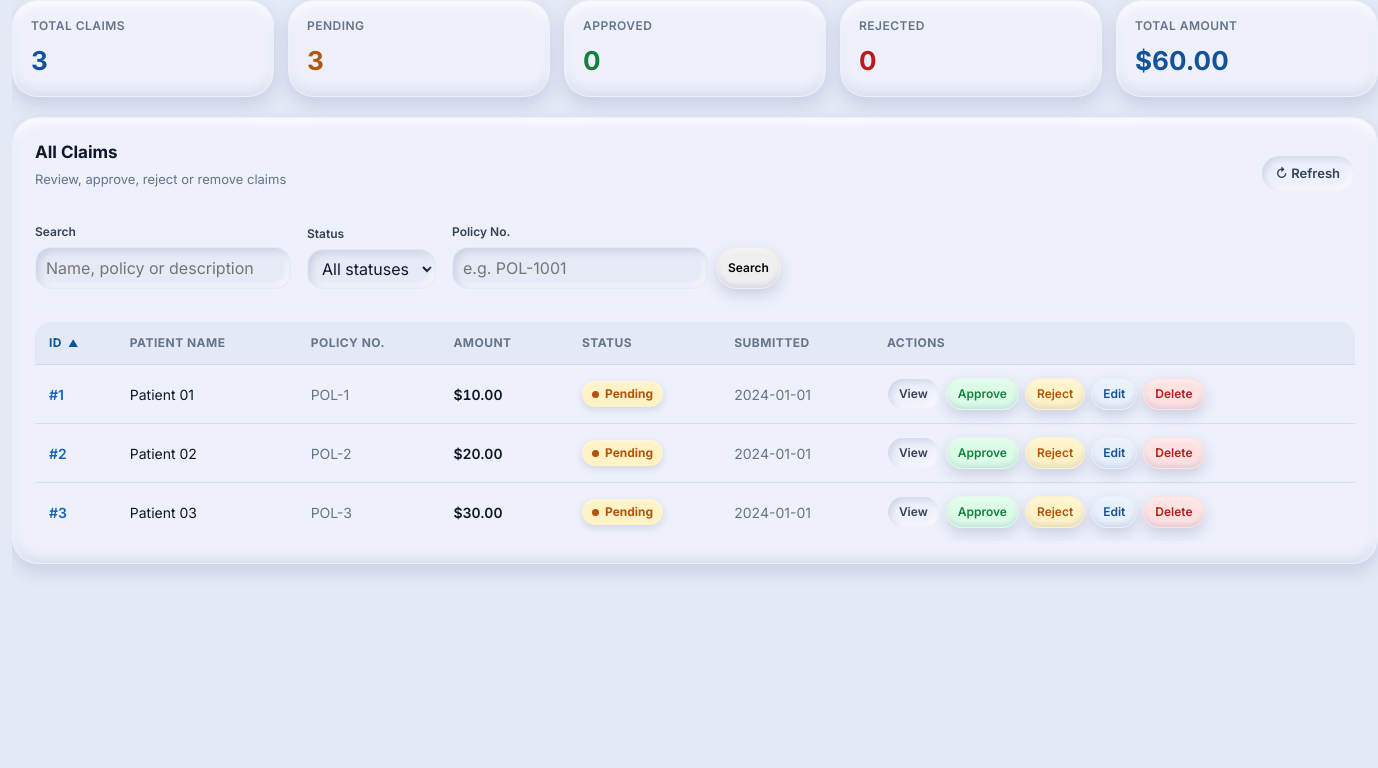
it: ClaimList › searches by policy number via the policy form (hits fetchClaimsByPolicy)
Check: the text "Patient 01" is shown, box [116,364,297,424]
In the field with placeholder "e.g. POL-1001": (580, 268) [452,247,708,289], type "POL-42"
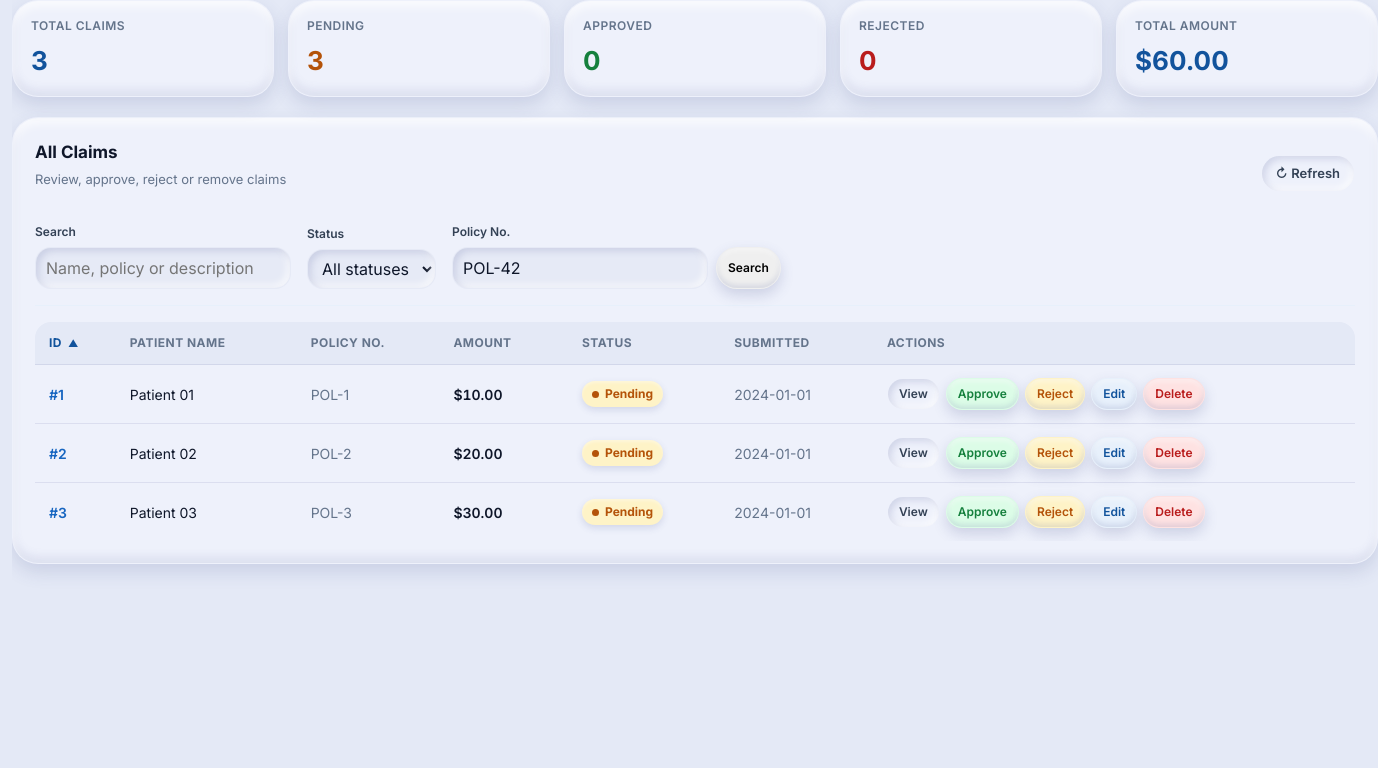
Submit the form with class "filter-field" showing "Policy No. Search", box [452,223,781,289]
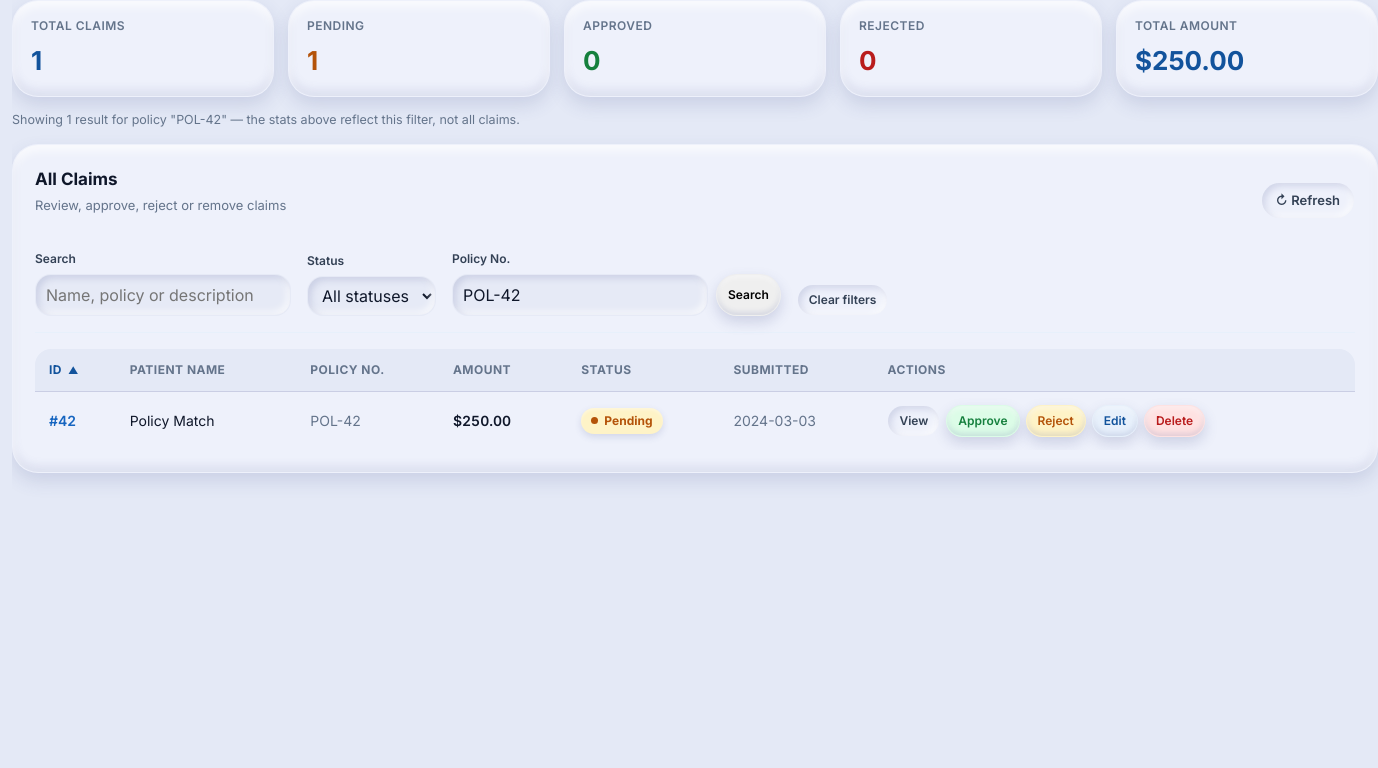
Check: the text "Policy Match" is shown, box [116,391,296,450]
